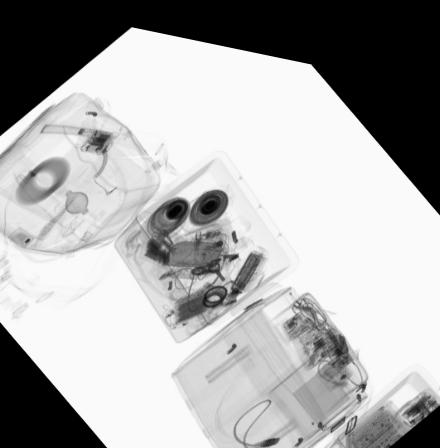Powerbank: (175, 279, 207, 319)
